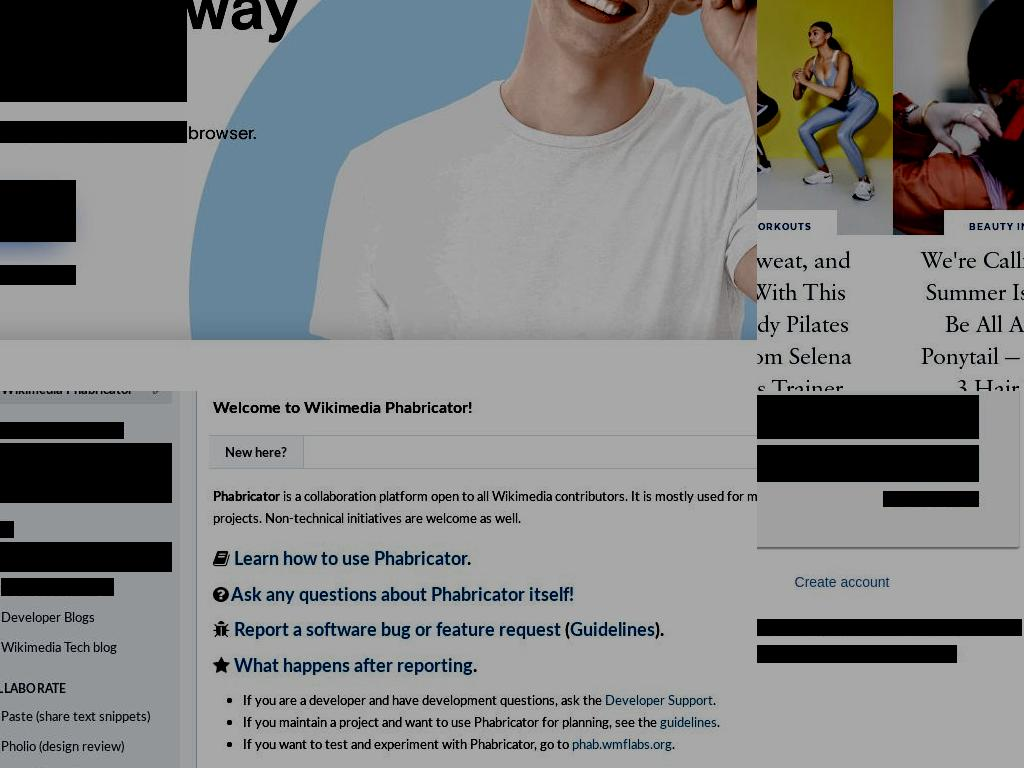button: (757, 0, 893, 391), (893, 0, 1024, 391), (0, 443, 172, 473), (0, 473, 172, 503), (0, 542, 172, 572), (0, 572, 172, 602), (0, 602, 172, 632), (0, 632, 172, 662), (0, 701, 172, 731), (0, 731, 172, 761), (0, 180, 76, 242), (209, 436, 303, 468), (0, 391, 172, 404), (883, 491, 979, 507)
field: (757, 395, 979, 439), (757, 445, 979, 482)
heading: (0, 0, 307, 102), (231, 580, 574, 606), (234, 616, 561, 641), (234, 651, 473, 677), (213, 395, 473, 418), (234, 545, 467, 570), (570, 616, 655, 641), (561, 616, 570, 641), (655, 616, 664, 641), (473, 651, 477, 677), (467, 545, 471, 570)
image: (187, 0, 757, 391), (757, 0, 893, 235), (893, 0, 1024, 235), (757, 645, 957, 663)
link: (605, 691, 713, 709), (572, 735, 672, 753), (794, 573, 889, 590), (660, 713, 717, 731)
text: (213, 487, 757, 527), (757, 240, 893, 391), (893, 240, 1024, 391), (243, 713, 660, 731), (0, 121, 307, 143), (243, 691, 605, 709), (243, 735, 572, 753), (757, 619, 1022, 636), (1, 707, 150, 725), (1, 737, 124, 755), (0, 422, 124, 439), (1, 638, 117, 656), (1, 548, 114, 566), (1, 578, 114, 596), (943, 210, 1024, 235), (757, 210, 837, 235), (1, 608, 95, 626), (1, 479, 89, 497), (0, 265, 76, 285), (1, 449, 76, 467), (213, 487, 280, 505), (0, 680, 67, 697), (225, 443, 287, 461), (1, 391, 133, 398), (0, 521, 14, 538), (713, 691, 716, 709), (717, 713, 720, 731), (672, 735, 675, 753)
